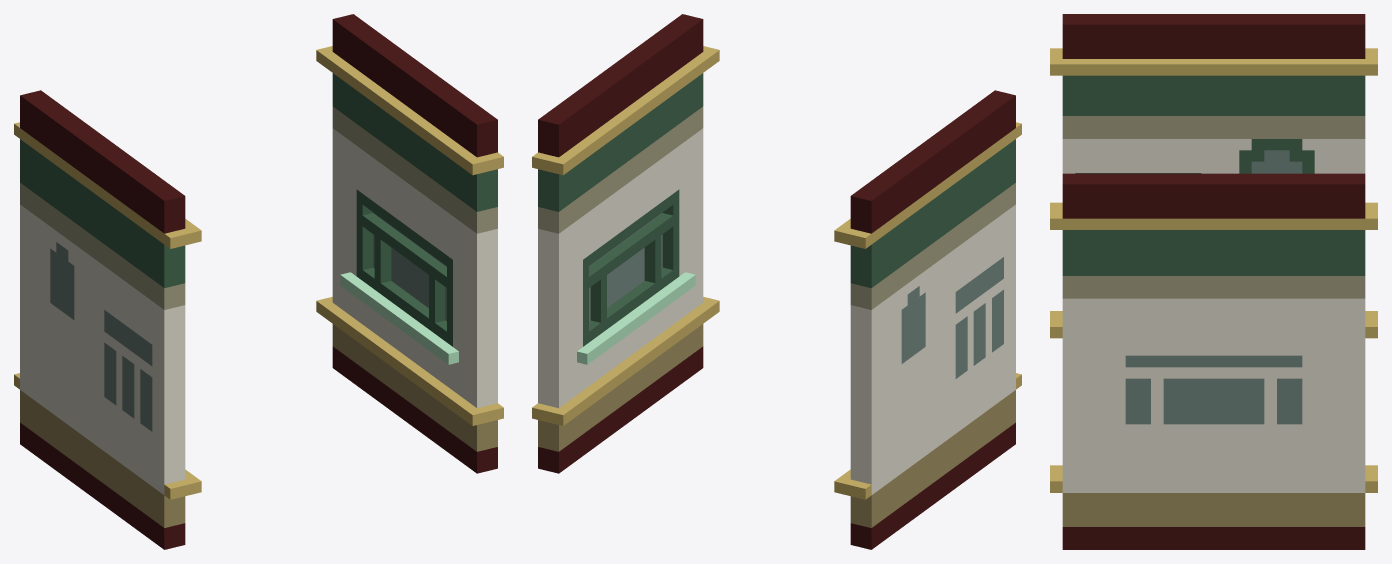
File: tile_4_middle_nr.obj
The picture shows the model from 3 angles, left to right: view 1: azimuth 30°, elevation 25°; view 2: azimuth 150°, elevation 25°; view 3: azimuth 270°, elevation 25°; orthographic projection. The views are drawn at different scales.
Bounding box in the file's own units: 3.2 × 3.2 × 2.6.
